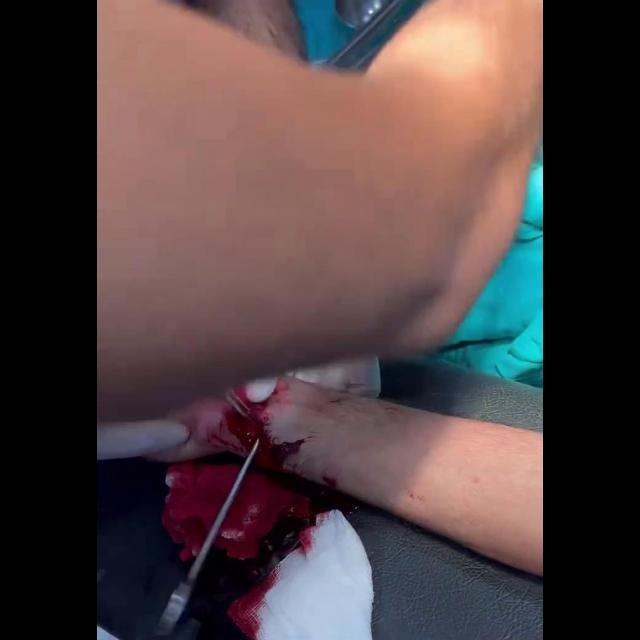blood: (161, 387, 356, 640)
